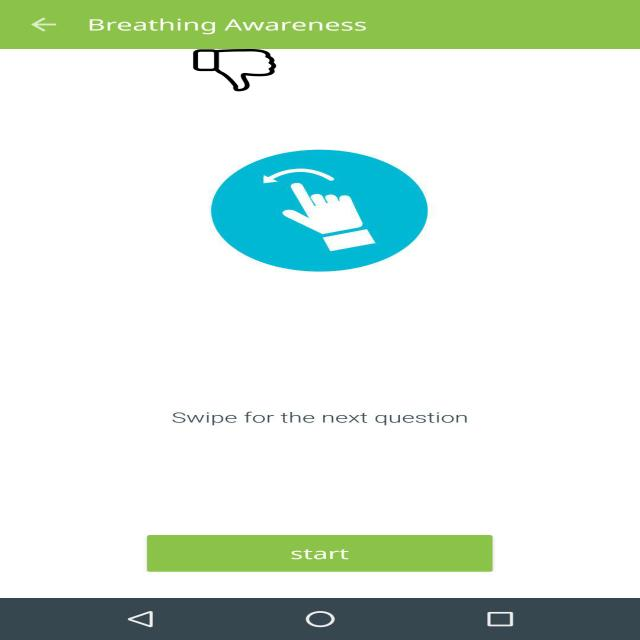obstruction: (192, 49, 277, 91)
